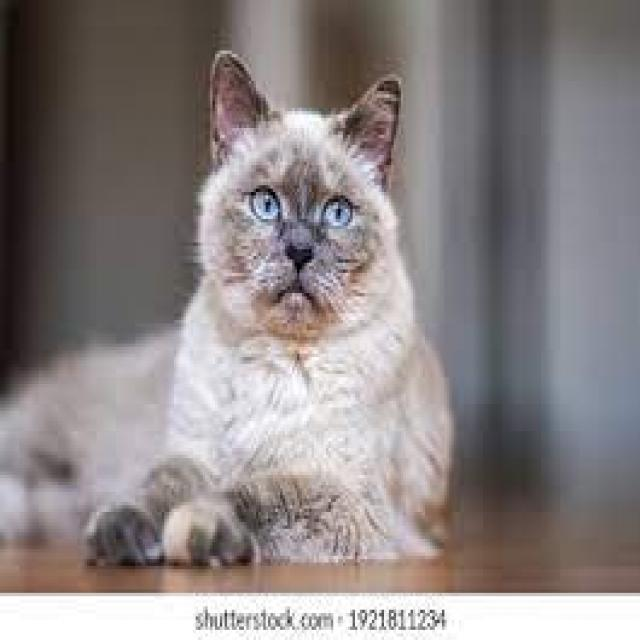Cat: (1, 47, 462, 568)
